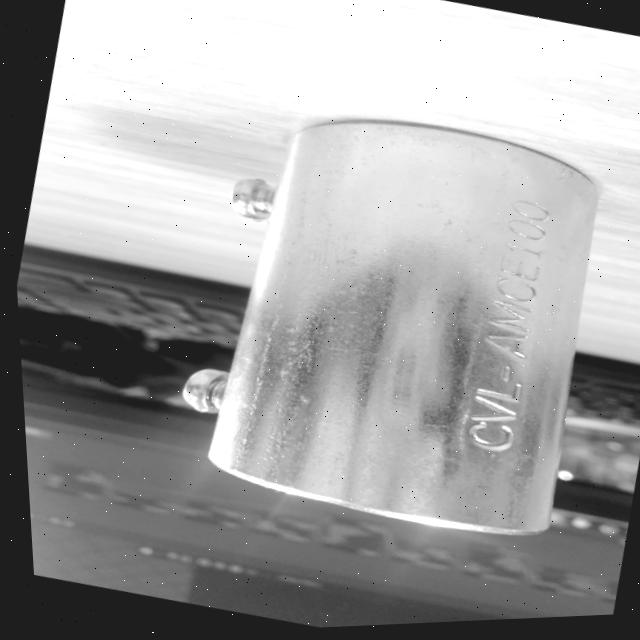Co_Nho: (204, 97, 616, 546)
